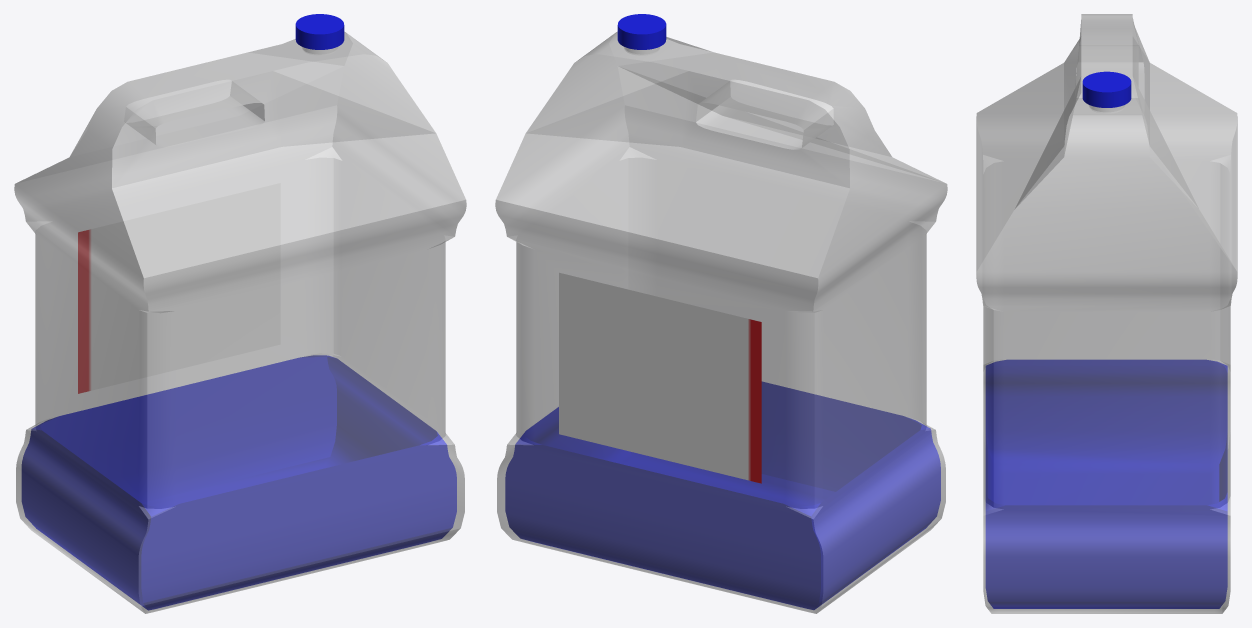
The model's file is bottle_large_blue.fbx.
The picture shows the model from 3 angles, left to right: view 1: azimuth 30°, elevation 25°; view 2: azimuth 150°, elevation 25°; view 3: azimuth 270°, elevation 25°; orthographic projection.
Parts seen in each view (by area): view 1: Cube.058, Cube.055, Cylinder.017; view 2: Cube.058, Cube.055, Cylinder.017; view 3: Cube.058, Cube.055, Cylinder.017.
Part boxes in pixels (x1=…): Cube.058: x1=14, y1=31, x2=466, y2=613; Cube.055: x1=21, y1=355, x2=456, y2=610; Cylinder.017: x1=295, y1=14, x2=344, y2=49; Cube.058: x1=495, y1=31, x2=947, y2=613; Cube.055: x1=505, y1=381, x2=940, y2=609; Cylinder.017: x1=617, y1=14, x2=666, y2=49; Cube.058: x1=976, y1=14, x2=1237, y2=613; Cube.055: x1=985, y1=359, x2=1227, y2=608; Cylinder.017: x1=1082, y1=71, x2=1131, y2=107.
Size of the model in its own units: 20 by 29.03 by 13.73.
